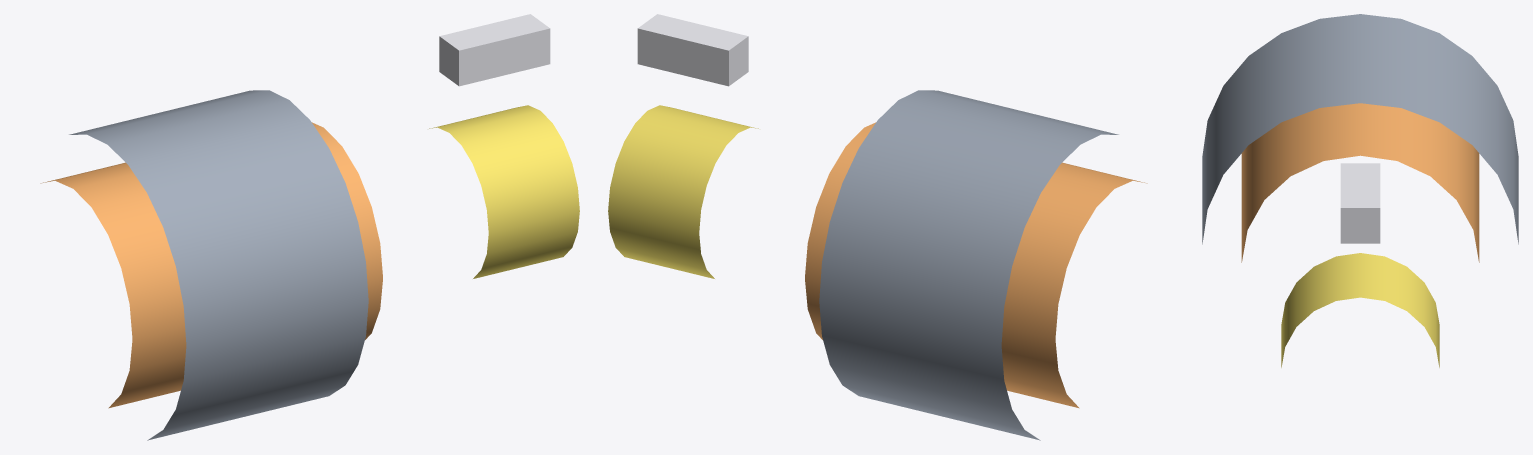
Rendered from electrical_workshop_2.glb.
3 views of the same model, side by side, from view 1: azimuth 30°, elevation 25°; view 2: azimuth 150°, elevation 25°; view 3: azimuth 270°, elevation 25° (orthographic).
Parts seen in each view (by area): view 1: StatorCoreLaminations, DiamondWindingCoilOverhang, CommutatorRig, CableCrimpingTerminationLug; view 2: StatorCoreLaminations, DiamondWindingCoilOverhang, CommutatorRig, CableCrimpingTerminationLug; view 3: StatorCoreLaminations, DiamondWindingCoilOverhang, CommutatorRig, CableCrimpingTerminationLug.
Part boxes in pixels (bbox=[...]): StatorCoreLaminations: bbox=[69, 90, 368, 440]; DiamondWindingCoilOverhang: bbox=[40, 122, 382, 408]; CommutatorRig: bbox=[429, 105, 579, 278]; CableCrimpingTerminationLug: bbox=[439, 14, 550, 86]; StatorCoreLaminations: bbox=[819, 90, 1118, 440]; DiamondWindingCoilOverhang: bbox=[805, 122, 1147, 408]; CommutatorRig: bbox=[608, 105, 758, 278]; CableCrimpingTerminationLug: bbox=[637, 14, 748, 86]; StatorCoreLaminations: bbox=[1202, 14, 1518, 244]; DiamondWindingCoilOverhang: bbox=[1241, 103, 1479, 262]; CommutatorRig: bbox=[1281, 253, 1439, 367]; CableCrimpingTerminationLug: bbox=[1340, 163, 1380, 243].
Size of the model in its own units: 2.05 by 1.28 by 1.2.
